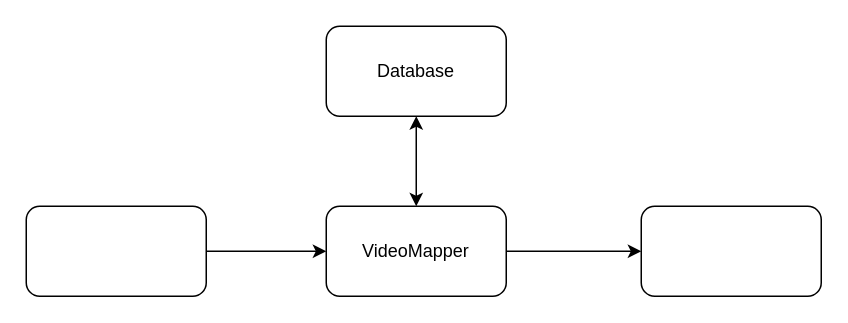
The diagram is 848 pixels wide and 323 high, and some of its shapes have lost their labels. Each missing label, with the box of its shape:
MultipartFile/File: (640, 205, 821, 296)
VideoService: (25, 205, 206, 296)
